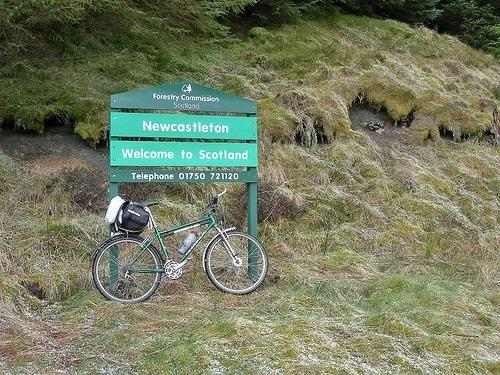bicycle: (90, 186, 268, 304)
